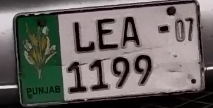LEA1199: (2, 2, 211, 106)
